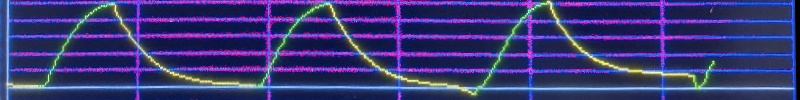normal_volume: (0, 0, 695, 96)
